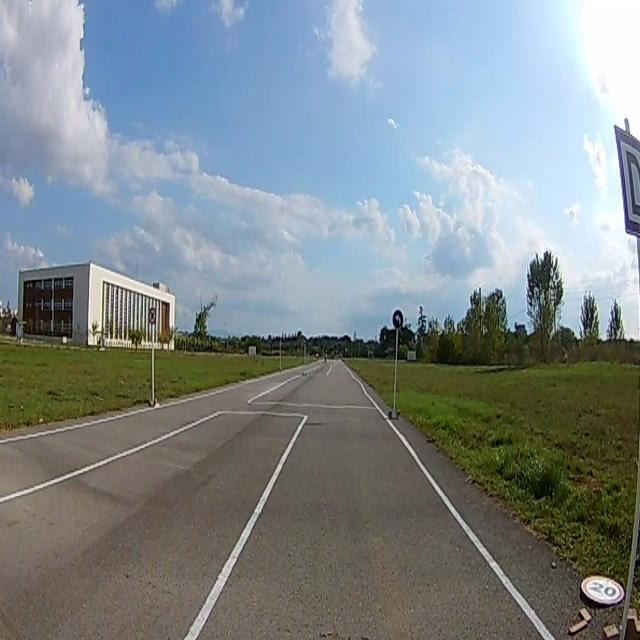durak: (616, 125, 640, 238)
sagadonulmez: (148, 307, 156, 322)
sol: (393, 309, 402, 327)
